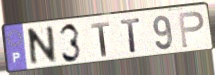3: (58, 22, 86, 64)
9: (151, 15, 174, 51)
N: (28, 24, 58, 69)
P: (177, 10, 206, 49)
T: (119, 17, 143, 55), (90, 21, 111, 58)
